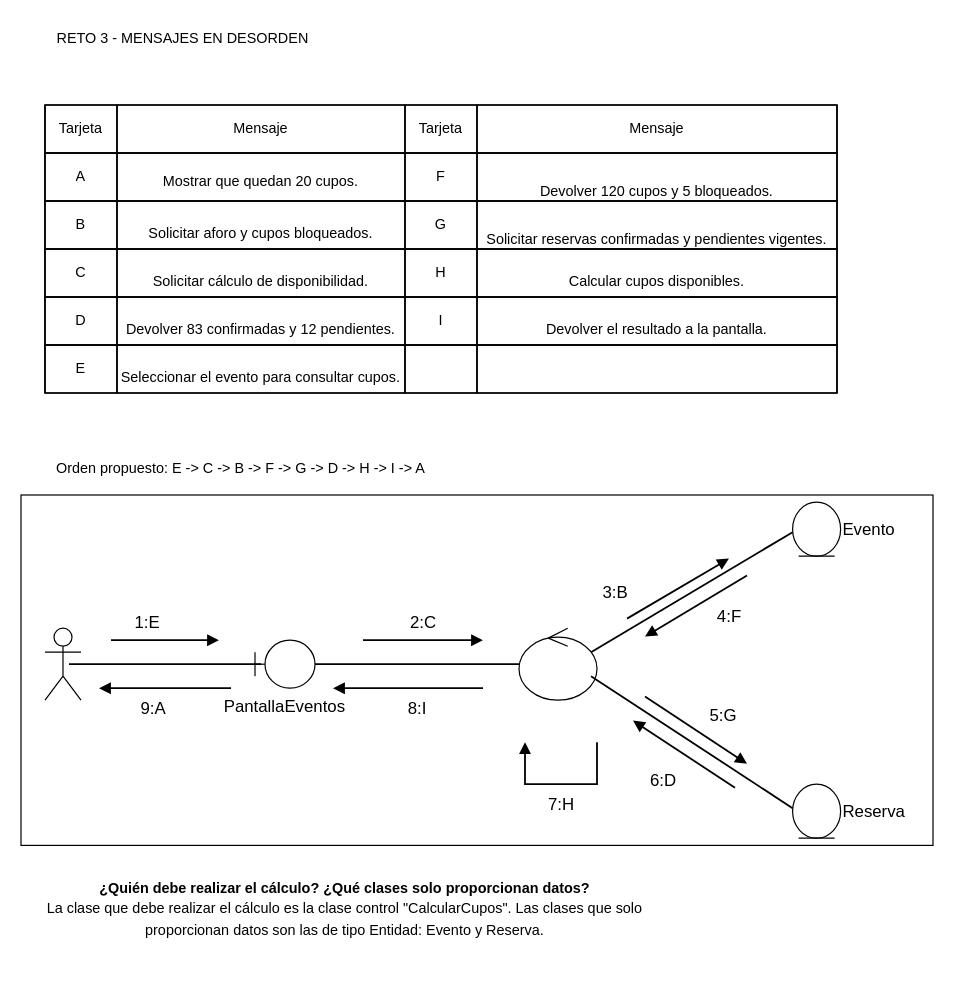
The diagram is 954 pixels wide and 985 high, and some of its shapes have lost their labels. The centre of each missing label's shape, as x and y in pixels:
CalcularCupos: the point at 557,663
Estudiante: the point at 62,663
